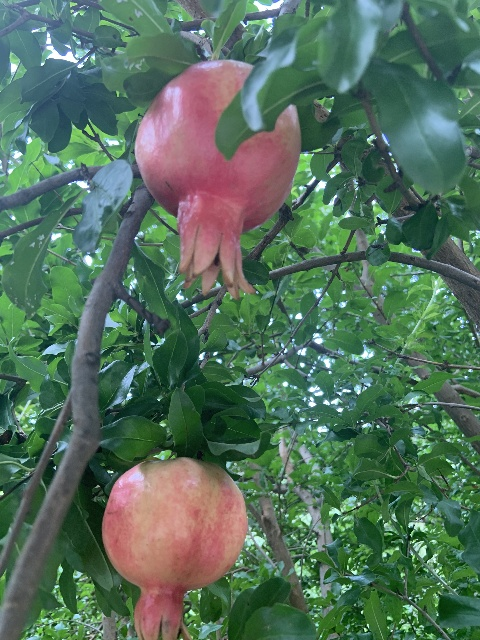ripe: (134, 59, 302, 300), (101, 456, 247, 640)
